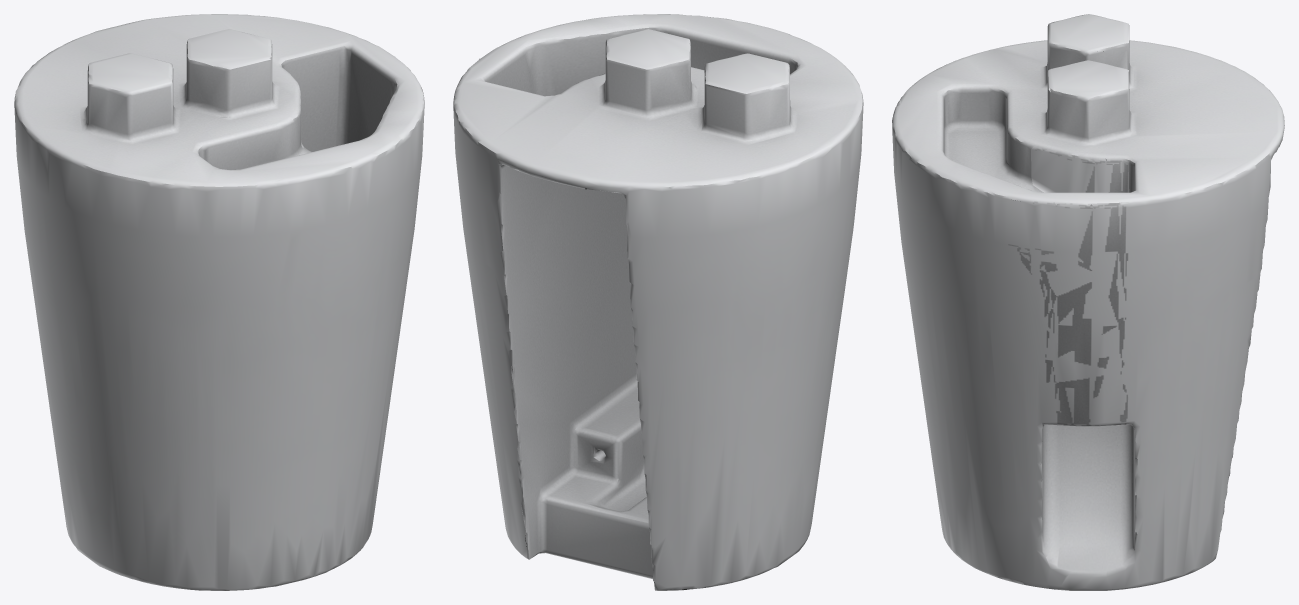
File: right_bisecp_lower.glb
3 renders of one model, left to right at view 1: azimuth 30°, elevation 25°; view 2: azimuth 150°, elevation 25°; view 3: azimuth 270°, elevation 25°, orthographic. The views are drawn at different scales.
Parts seen in each view (by area): view 1: right_bisecp_lower; view 2: right_bisecp_lower; view 3: right_bisecp_lower.
Part boxes in pixels (box(x1,y1,x2,y2)): right_bisecp_lower: box(14, 14, 424, 590); right_bisecp_lower: box(453, 14, 863, 590); right_bisecp_lower: box(892, 14, 1284, 590).
Size of the model in its own units: 0.0753 by 0.0967 by 0.0753.
1 material, 1 textured.
